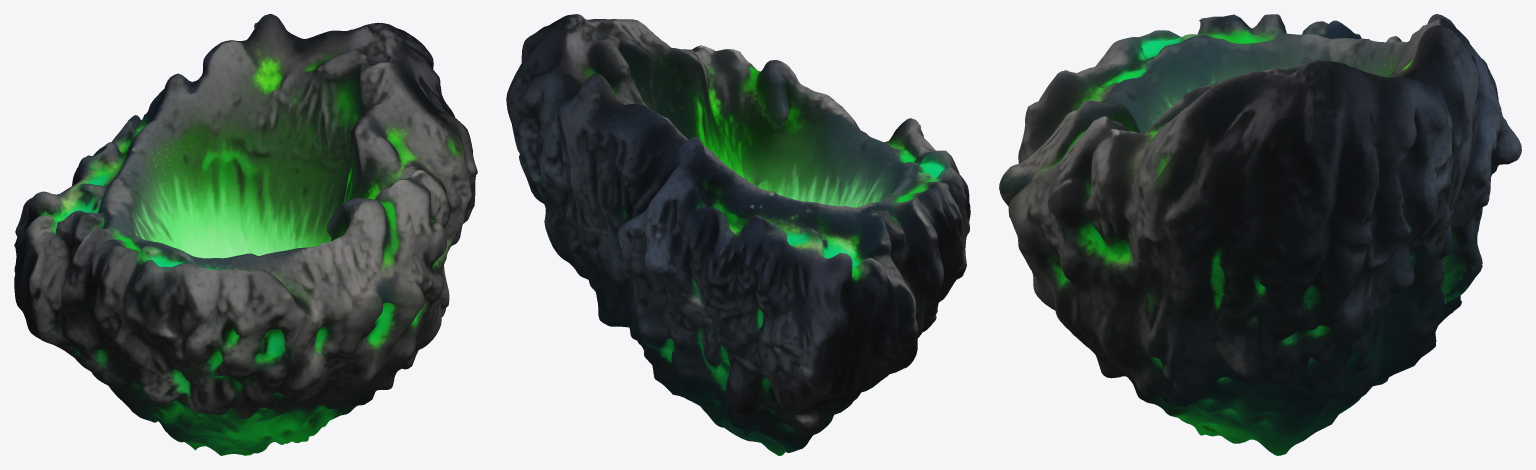
File: geyser.glb
3 renders of one model, left to right at view 1: azimuth 30°, elevation 25°; view 2: azimuth 150°, elevation 25°; view 3: azimuth 270°, elevation 25°, orthographic. The views are drawn at different scales.
Visible parts, largest first — view 1: geometry_0; view 2: geometry_0; view 3: geometry_0.
Part boxes in pixels (x1,y1,x2,y2): geometry_0: (14, 14, 477, 455); geometry_0: (506, 14, 970, 455); geometry_0: (999, 14, 1521, 455).
Bounding box in the file's own units: 3.1 × 2.9 × 2.81.
1 material, 1 textured.
